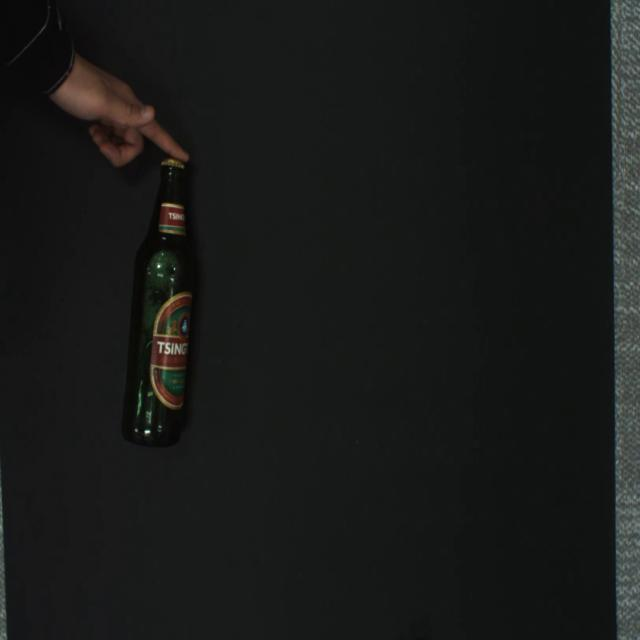beer-bottle: (121, 158, 195, 448)
